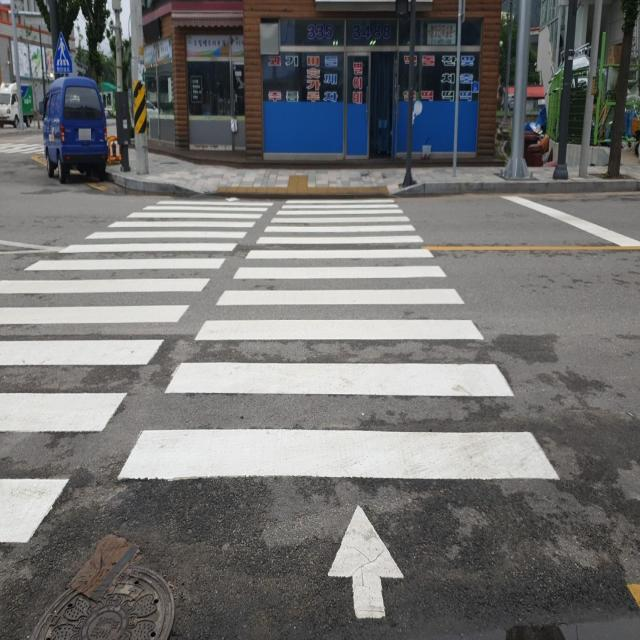횡단보도: (0, 186, 565, 626)
